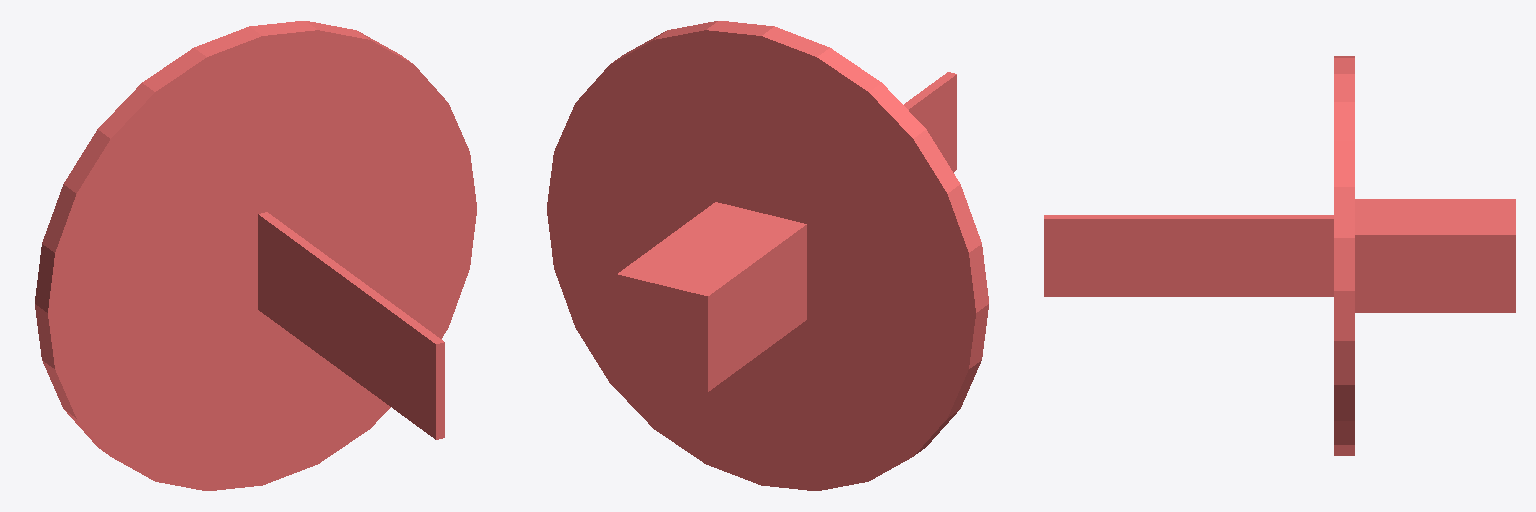
The robot description file, URDF, robot "lid_1":
<?xml version="0.0" ?>
<robot name="lid_1">
  <link name="base_link">
  <contact>
      <lateral_friction value="1"/>
  </contact>
    <inertial>
      <origin rpy="0 0 0" xyz="0 0 0"/>
       <mass value="0.05"/>
       <inertia ixx="0.001" ixy="0" ixz="0" iyy="0.001" iyz="0" izz="0.001"/>
    </inertial>
    <visual>
      <origin rpy="0 0 0" xyz="0 0 0"/>
      <geometry>
				<mesh filename="lid.obj" scale="1 1 1"/>
      </geometry>
       <material name="redish">
        <color rgba="1 0.5 0.5 1"/>
      </material>
    </visual>
    <collision>
      <origin rpy="0 0 0" xyz="0 0 0"/>
      <geometry>
				<mesh filename="lid_collision.obj" scale="1 1 1"/>
      </geometry>
    </collision>
  </link>
</robot>

--- Render facts (derived) ---
The picture shows the robot from 3 angles, left to right: view 1: azimuth 30°, elevation 25°; view 2: azimuth 150°, elevation 25°; view 3: azimuth 270°, elevation 25°; orthographic projection.
Model lid_1 with 1 links and 0 joints (none), rooted at base_link, posed every joint at zero.
Visible links, largest first — view 1: base_link; view 2: base_link; view 3: base_link.
Link boxes in pixels (x1,y1,x2,y2): base_link: (35, 21, 476, 490); base_link: (547, 21, 988, 490); base_link: (1044, 56, 1515, 455).
Size in the robot's own frame: 0.094 by 0.11 by 0.094 metres.
Meshes: 1 distinct files referenced, 1 mesh visuals loaded (1 OBJ).
